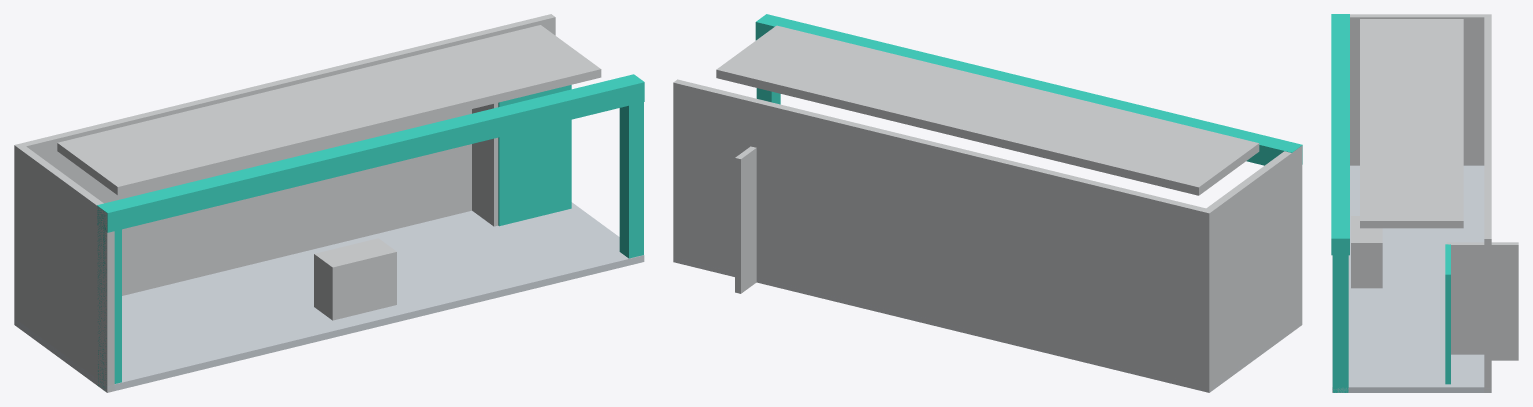
3 renders of one model, left to right at view 1: azimuth 30°, elevation 25°; view 2: azimuth 150°, elevation 25°; view 3: azimuth 270°, elevation 25°, orthographic. The views are drawn at different scales.
Visible parts, largest first — view 1: Exhibition Booth Concept; view 2: Exhibition Booth Concept; view 3: Exhibition Booth Concept.
Part boxes in pixels (x1,y1,x2,y2): Exhibition Booth Concept: (14, 14, 644, 392); Exhibition Booth Concept: (673, 14, 1302, 392); Exhibition Booth Concept: (1331, 14, 1518, 392).
Bounding box in the file's own units: 10 × 3.34 × 3.52.
